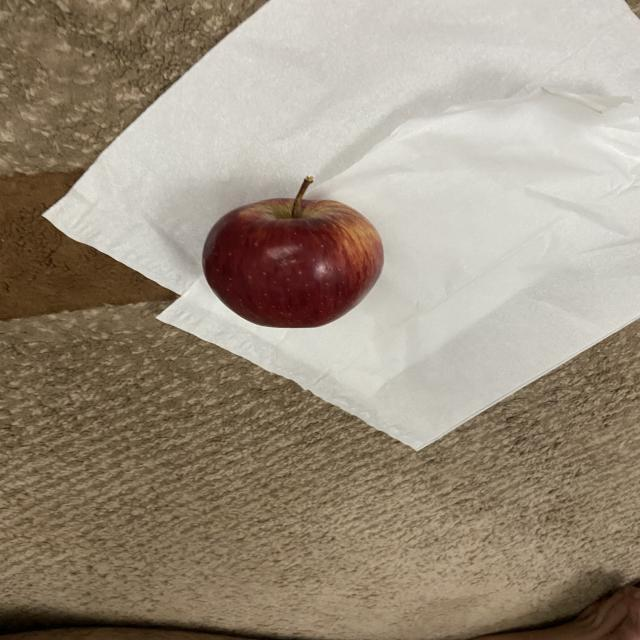apple: (200, 171, 392, 335)
